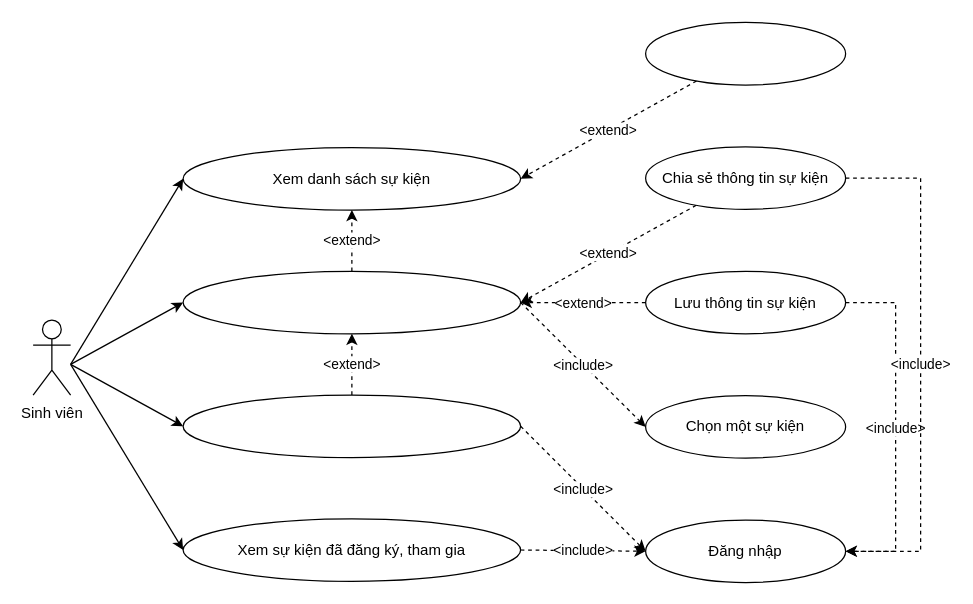
Image size: 973x604. Some labels were removed from this diagram. Here are the shapes that lost their labels. From the top down, the centre of each, then its label:
At (x=745, y=53): "Lọc theo tên, ngày, người tổ chức".
At (x=351, y=302): "Xem thông tin sự kiện".
At (x=351, y=426): "Đăng ký, hủy đăng ký tham gia sự kiện".
